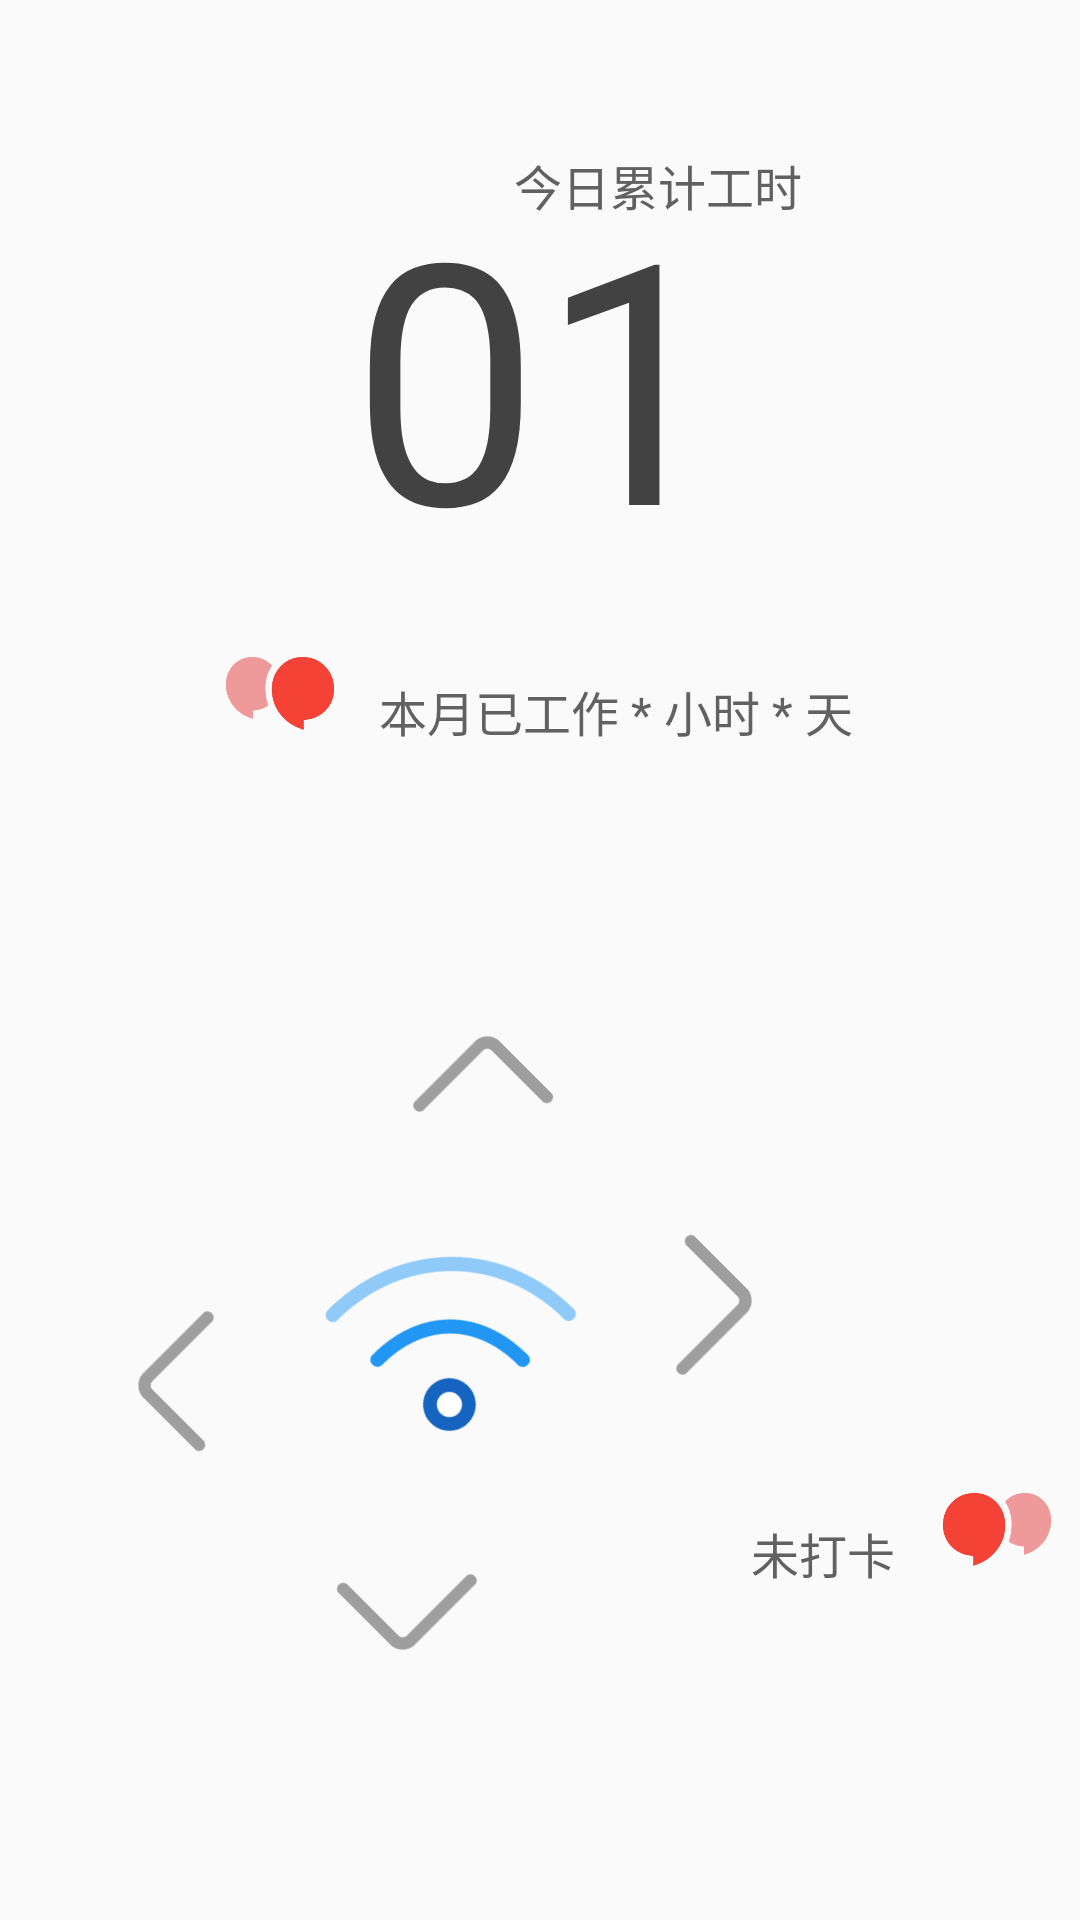

Named icons in this screenshot (1080×1920) and their bounding boxes, (x1, y1, x2, y2):
quote left: (226, 657, 334, 730)
quote right: (943, 1493, 1051, 1566)
